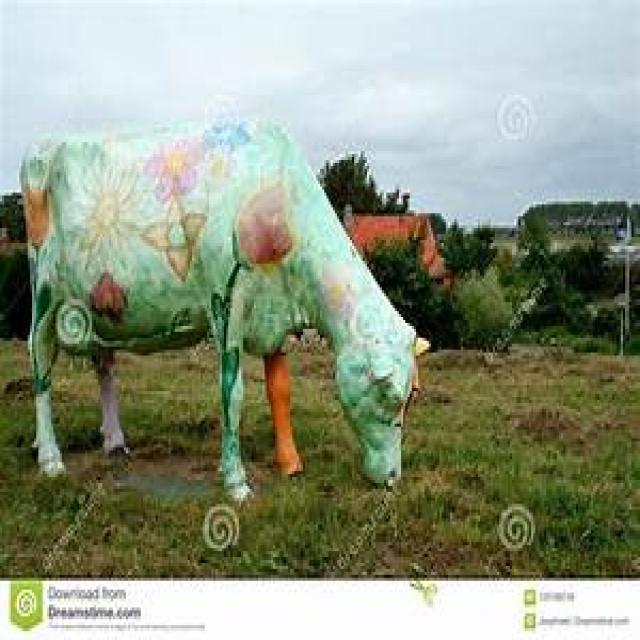cow: (21, 118, 415, 501)
